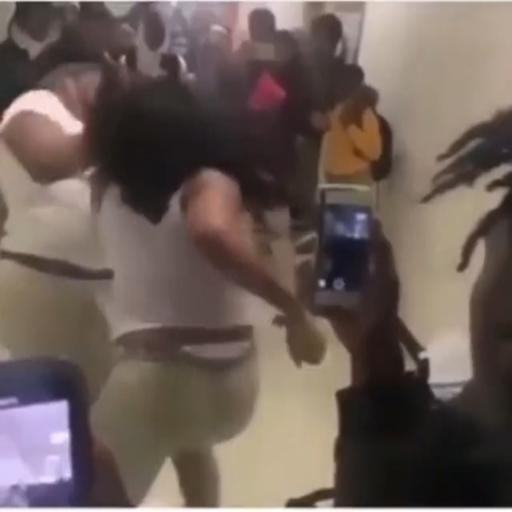violencia: (0, 39, 338, 512)
